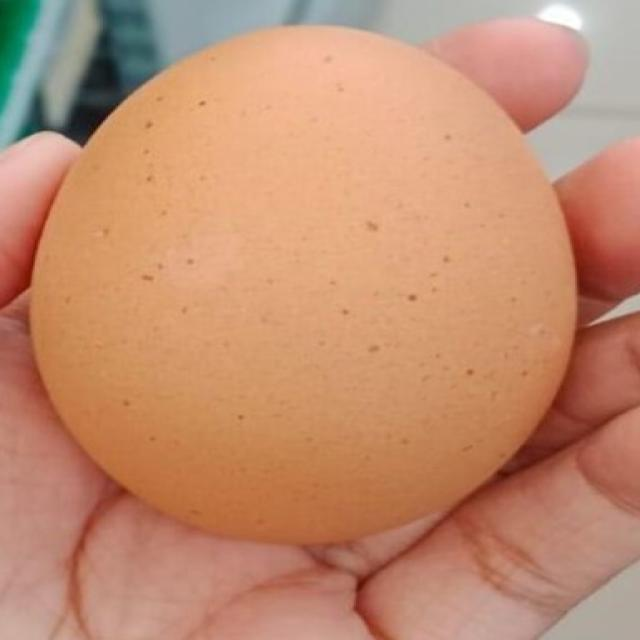unfresh: (38, 20, 574, 535)
